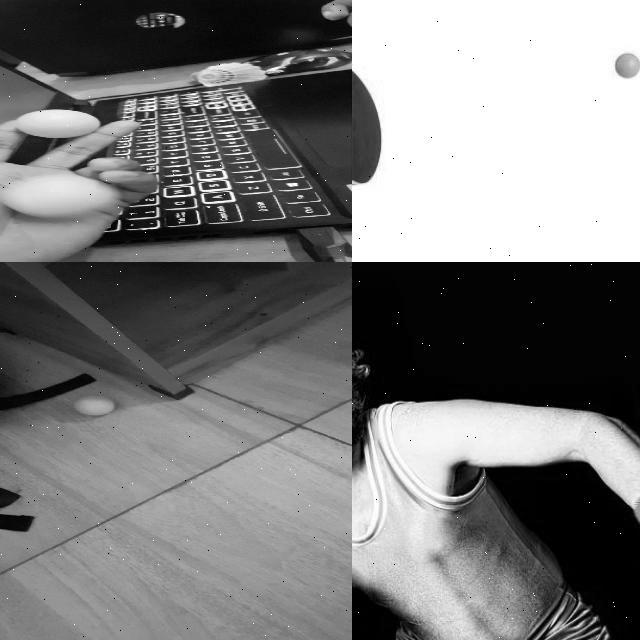ping-pong-ball: (0, 174, 118, 217), (15, 109, 100, 138), (614, 52, 638, 80), (76, 397, 113, 412)
